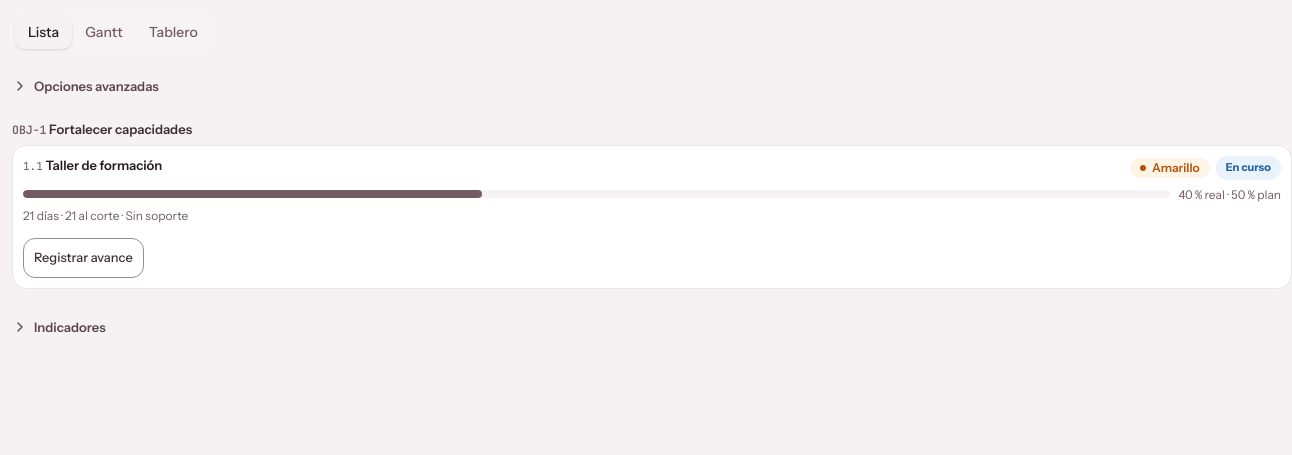
Test case: FichaActividades › Lista in execution › keeps the indicators in a collapsed section
The width and height of the screenshot is (1292, 455).
Check: the list item with test id "ejecucion-actividad" is shown, box [12,145,1291,289]
Click the button "Indicadores". click: x=59, y=327
box: [12,305,106,349]
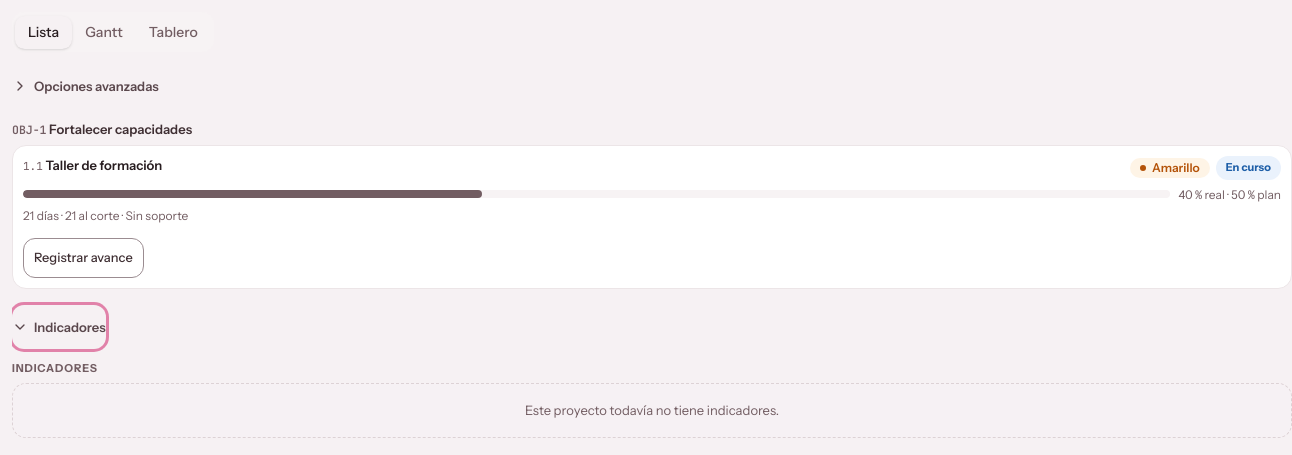
Check: the button "Indicadores" is expanded, box [12,305,106,349]
